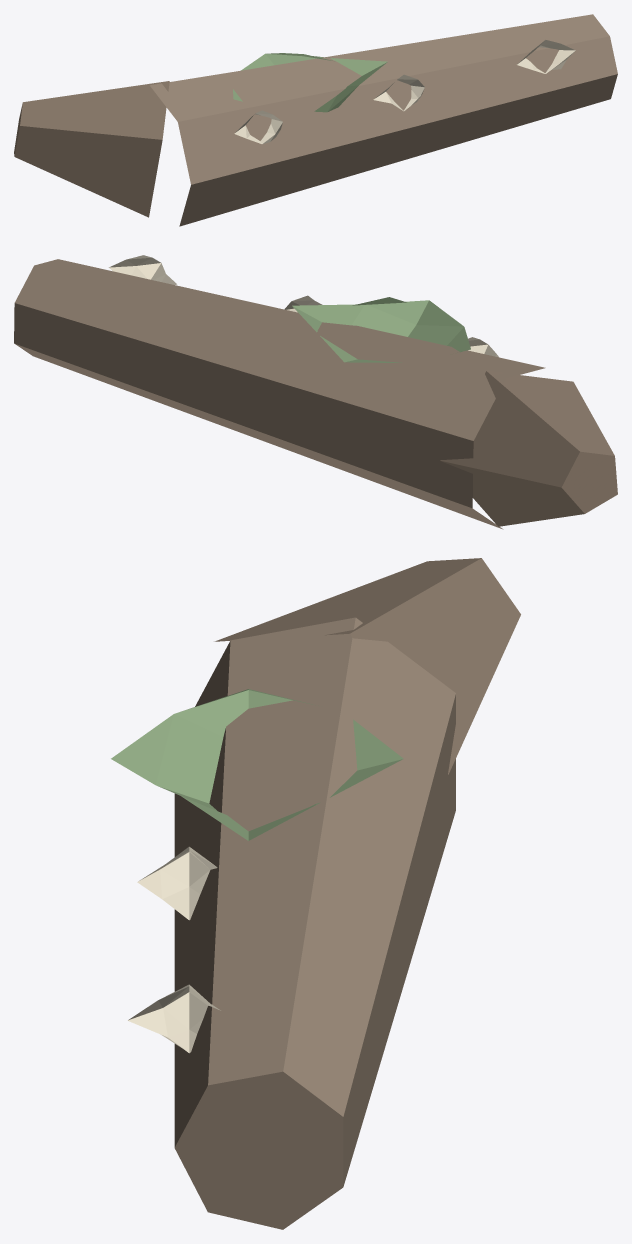
The model's file is log_v07.glb.
3 renders of one model, top to bottom at view 1: azimuth 30°, elevation 25°; view 2: azimuth 150°, elevation 25°; view 3: azimuth 270°, elevation 25°, orthographic. The views are drawn at different scales.
Parts seen in each view (by area): view 1: lod0; view 2: lod0; view 3: lod0.
Part boxes in pixels (x1=…): lod0: x1=14, y1=14, x2=617, y2=226; lod0: x1=14, y1=255, x2=617, y2=529; lod0: x1=111, y1=558, x2=520, y2=1229.
Size of what is drawn, in the model's own units: 2.71 by 0.7175 by 0.8859.
